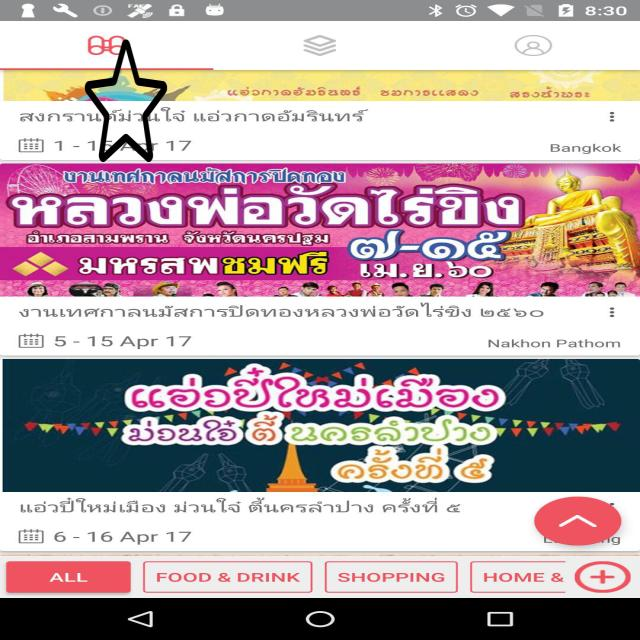forced continuity: (85, 36, 167, 165)
